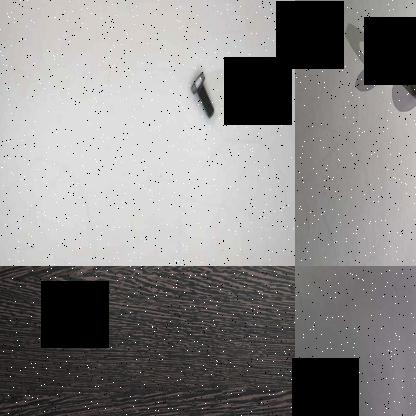Bolts: (187, 66, 216, 128)
NUTS: (402, 46, 416, 119), (370, 48, 392, 84)
